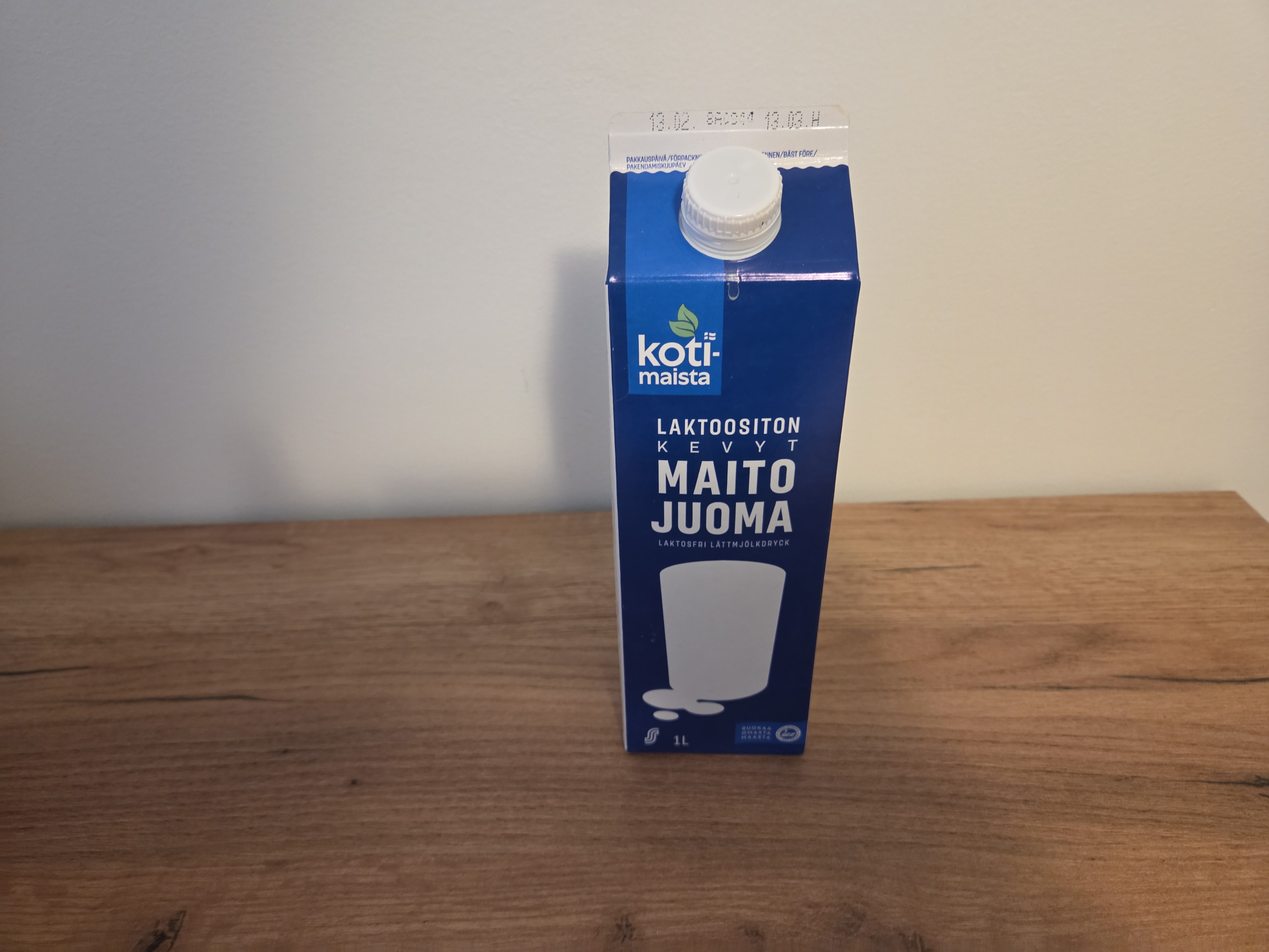Dryckeskartong: (606, 101, 861, 754)
